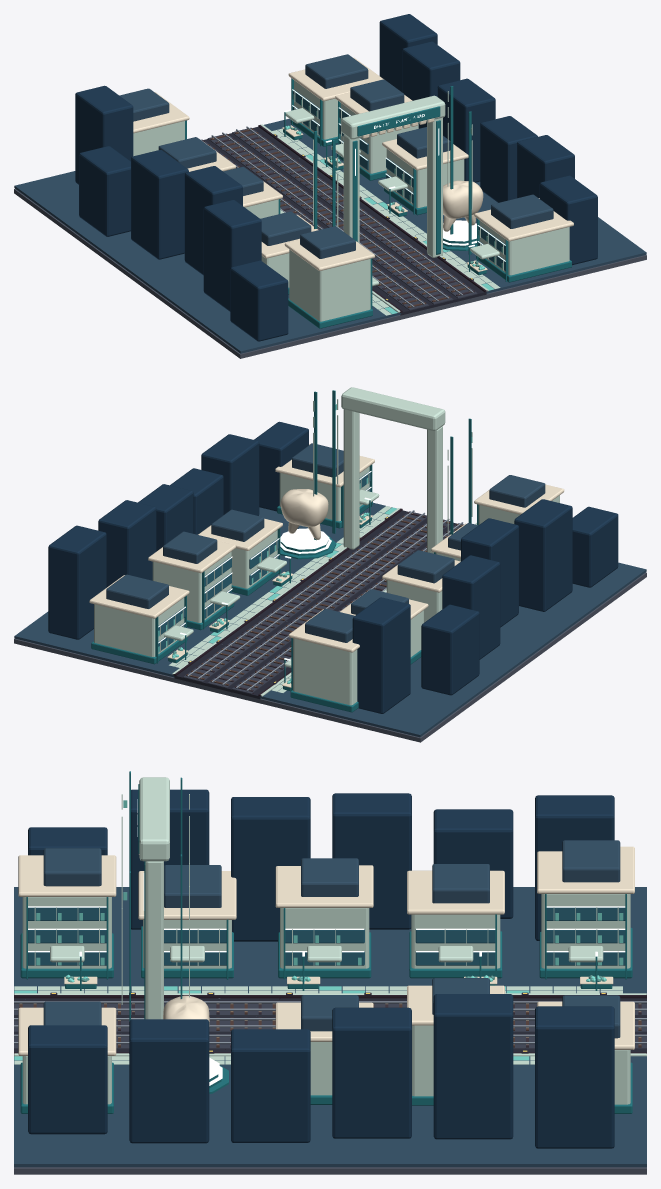
File: 05_Dentist_Enamel_Ward.glb
3 renders of one model, top to bottom at view 1: azimuth 30°, elevation 25°; view 2: azimuth 150°, elevation 25°; view 3: azimuth 270°, elevation 25°, orthographic. The views are drawn at different scales.
Visible parts, largest first — view 1: 05_Dentist_Enamel_Ward · nightblue, 05_Dentist_Enamel_Ward · slate, 05_Dentist_Enamel_Ward · tile, District_Gate, 05_Dentist_Enamel_Ward · porcelain, 05_Dentist_Enamel_Ward · stone, 05_Dentist_Enamel_Ward · teal, 05_Dentist_Enamel_Ward · dirt, 05_Dentist_Enamel_Ward · ballast, 05_Dentist_Enamel_Ward · tie, 05_Dentist_Enamel_Ward · steel, 05_Dentist_Enamel_Ward · clinicglass (+5 smaller); view 2: 05_Dentist_Enamel_Ward · nightblue, 05_Dentist_Enamel_Ward · slate, 05_Dentist_Enamel_Ward · tile, District_Gate, 05_Dentist_Enamel_Ward · porcelain, 05_Dentist_Enamel_Ward · stone, 05_Dentist_Enamel_Ward · teal, 05_Dentist_Enamel_Ward · ballast, 05_Dentist_Enamel_Ward · dirt, 05_Dentist_Enamel_Ward · tie, 05_Dentist_Enamel_Ward · steel, 05_Dentist_Enamel_Ward · clinicglass (+5 smaller); view 3: 05_Dentist_Enamel_Ward · nightblue, 05_Dentist_Enamel_Ward · slate, 05_Dentist_Enamel_Ward · tile, 05_Dentist_Enamel_Ward · porcelain, 05_Dentist_Enamel_Ward · clinicglass, 05_Dentist_Enamel_Ward · teal, District_Gate, 05_Dentist_Enamel_Ward · dirt, 05_Dentist_Enamel_Ward · stone, 05_Dentist_Enamel_Ward · ballast, 05_Dentist_Enamel_Ward · mint, 05_Dentist_Enamel_Ward · fluoro (+3 smaller).
Boxes of the visible parts, box(x1,y1,x2,y2) form: 05_Dentist_Enamel_Ward · nightblue: box(75, 14, 597, 341); 05_Dentist_Enamel_Ward · slate: box(14, 54, 646, 353); 05_Dentist_Enamel_Ward · tile: box(133, 80, 569, 321); District_Gate: box(313, 86, 472, 257); 05_Dentist_Enamel_Ward · porcelain: box(133, 57, 573, 297); 05_Dentist_Enamel_Ward · stone: box(201, 127, 477, 310); 05_Dentist_Enamel_Ward · teal: box(185, 78, 571, 328); 05_Dentist_Enamel_Ward · dirt: box(14, 189, 646, 358); 05_Dentist_Enamel_Ward · ballast: box(204, 126, 486, 315); 05_Dentist_Enamel_Ward · tie: box(207, 128, 469, 308); 05_Dentist_Enamel_Ward · steel: box(199, 126, 473, 306); 05_Dentist_Enamel_Ward · clinicglass: box(292, 89, 505, 270); 05_Dentist_Enamel_Ward · nightblue: box(48, 421, 618, 713); 05_Dentist_Enamel_Ward · slate: box(14, 443, 646, 737); 05_Dentist_Enamel_Ward · tile: box(94, 466, 559, 705); District_Gate: box(313, 387, 472, 553); 05_Dentist_Enamel_Ward · porcelain: box(89, 443, 564, 687); 05_Dentist_Enamel_Ward · stone: box(183, 511, 463, 694); 05_Dentist_Enamel_Ward · teal: box(91, 464, 478, 712); 05_Dentist_Enamel_Ward · ballast: box(174, 510, 456, 698); 05_Dentist_Enamel_Ward · dirt: box(14, 572, 646, 742); 05_Dentist_Enamel_Ward · tie: box(186, 515, 462, 688); 05_Dentist_Enamel_Ward · steel: box(187, 510, 463, 690); 05_Dentist_Enamel_Ward · clinicglass: box(158, 471, 370, 650); 05_Dentist_Enamel_Ward · nightblue: box(28, 789, 614, 1148); 05_Dentist_Enamel_Ward · slate: box(14, 840, 646, 1167); 05_Dentist_Enamel_Ward · tile: box(14, 894, 646, 1104); 05_Dentist_Enamel_Ward · porcelain: box(18, 846, 634, 1055); 05_Dentist_Enamel_Ward · clinicglass: box(28, 907, 625, 965); 05_Dentist_Enamel_Ward · teal: box(20, 894, 632, 1113); District_Gate: box(121, 771, 189, 1021); 05_Dentist_Enamel_Ward · dirt: box(14, 1167, 646, 1174); 05_Dentist_Enamel_Ward · stone: box(14, 998, 646, 1049); 05_Dentist_Enamel_Ward · ballast: box(14, 998, 646, 1052); 05_Dentist_Enamel_Ward · mint: box(14, 913, 623, 1060); 05_Dentist_Enamel_Ward · fluoro: box(28, 906, 625, 1085).
Size of the model in its own units: 56 by 21.42 by 54.
